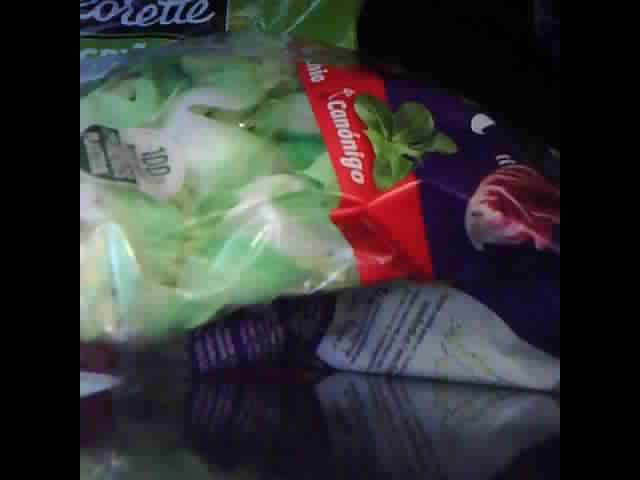florette: (79, 39, 559, 402), (81, 2, 360, 398)
